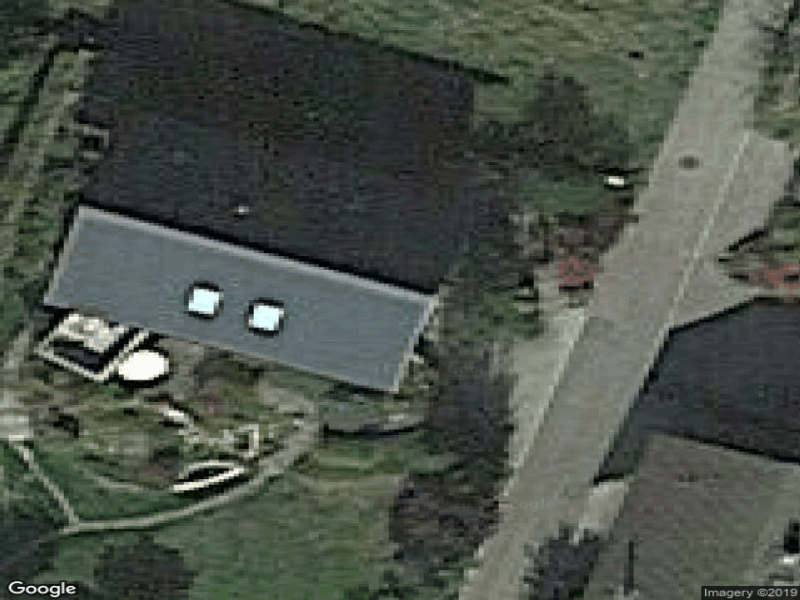pv: (49, 220, 426, 390)
